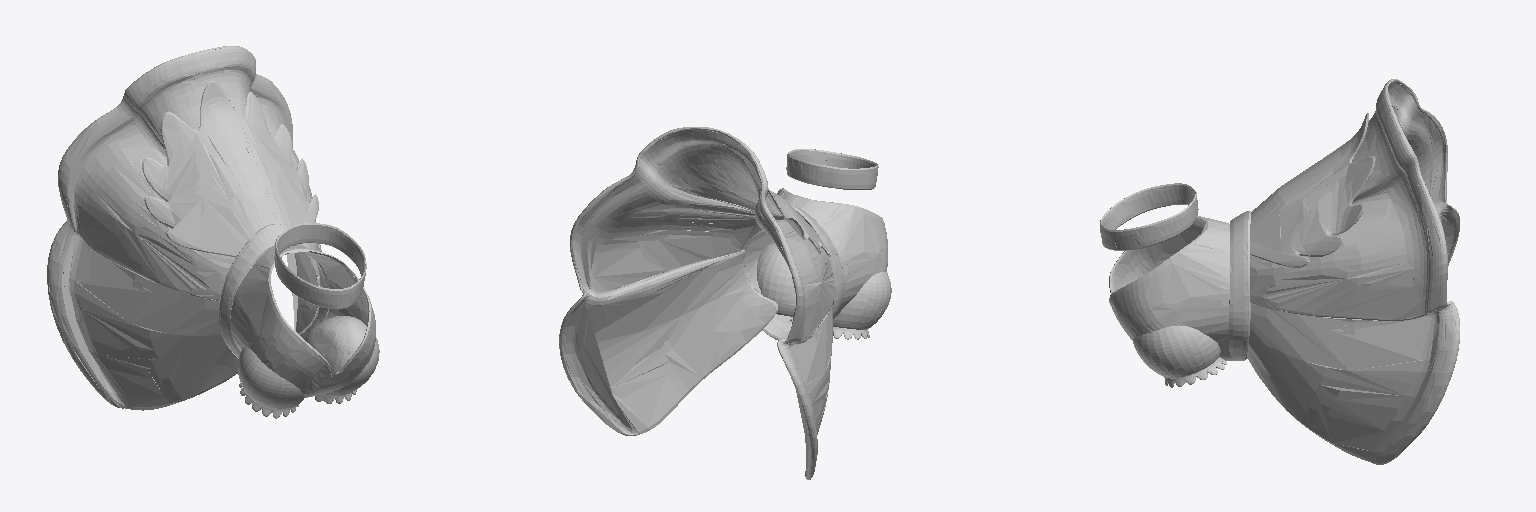
File: dis_dress.obj
The picture shows the model from 3 angles: view 1: azimuth 30°, elevation 25°; view 2: azimuth 150°, elevation 25°; view 3: azimuth 270°, elevation 25°; orthographic projection.
Visible parts, largest first — view 1: cancan_dress_body0_model0.001_cancan_dress_body0_model0.002; view 2: cancan_dress_body0_model0.001_cancan_dress_body0_model0.002; view 3: cancan_dress_body0_model0.001_cancan_dress_body0_model0.002.
Part boxes in pixels (bbox=[...]): cancan_dress_body0_model0.001_cancan_dress_body0_model0.002: bbox=[47, 46, 379, 418]; cancan_dress_body0_model0.001_cancan_dress_body0_model0.002: bbox=[559, 127, 891, 479]; cancan_dress_body0_model0.001_cancan_dress_body0_model0.002: bbox=[1100, 79, 1459, 464].
Size of the model in its own units: 23.93 by 30.43 by 29.96.